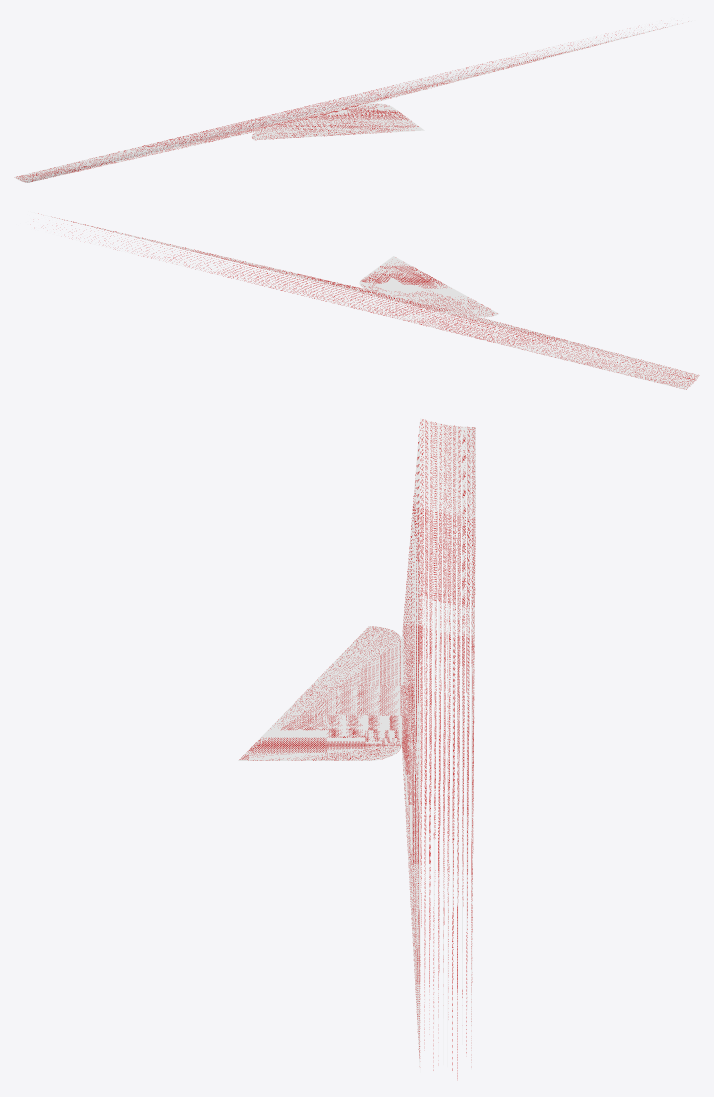
3 views of the same model, one above another, from view 1: azimuth 30°, elevation 25°; view 2: azimuth 150°, elevation 25°; view 3: azimuth 270°, elevation 25° (orthographic). The views are drawn at different scales.
Size of the model in its own units: 1.3 by 0.00813 by 0.1993.
